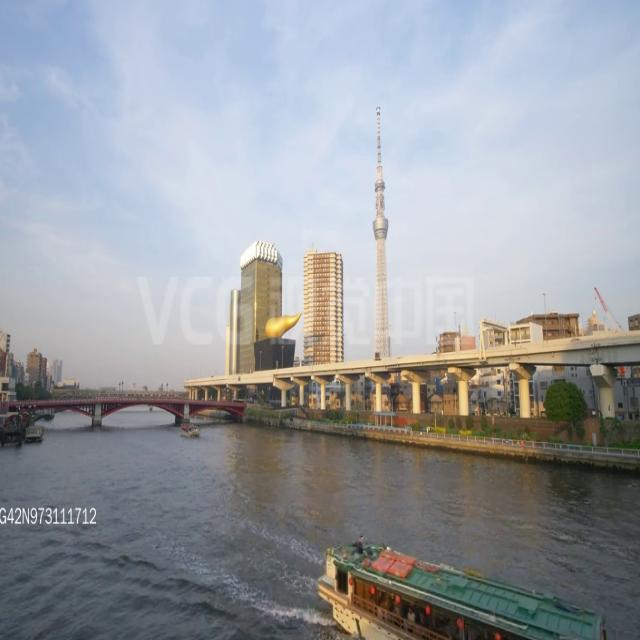passenger ship: (314, 532, 604, 640), (24, 416, 46, 449), (178, 420, 200, 442)
